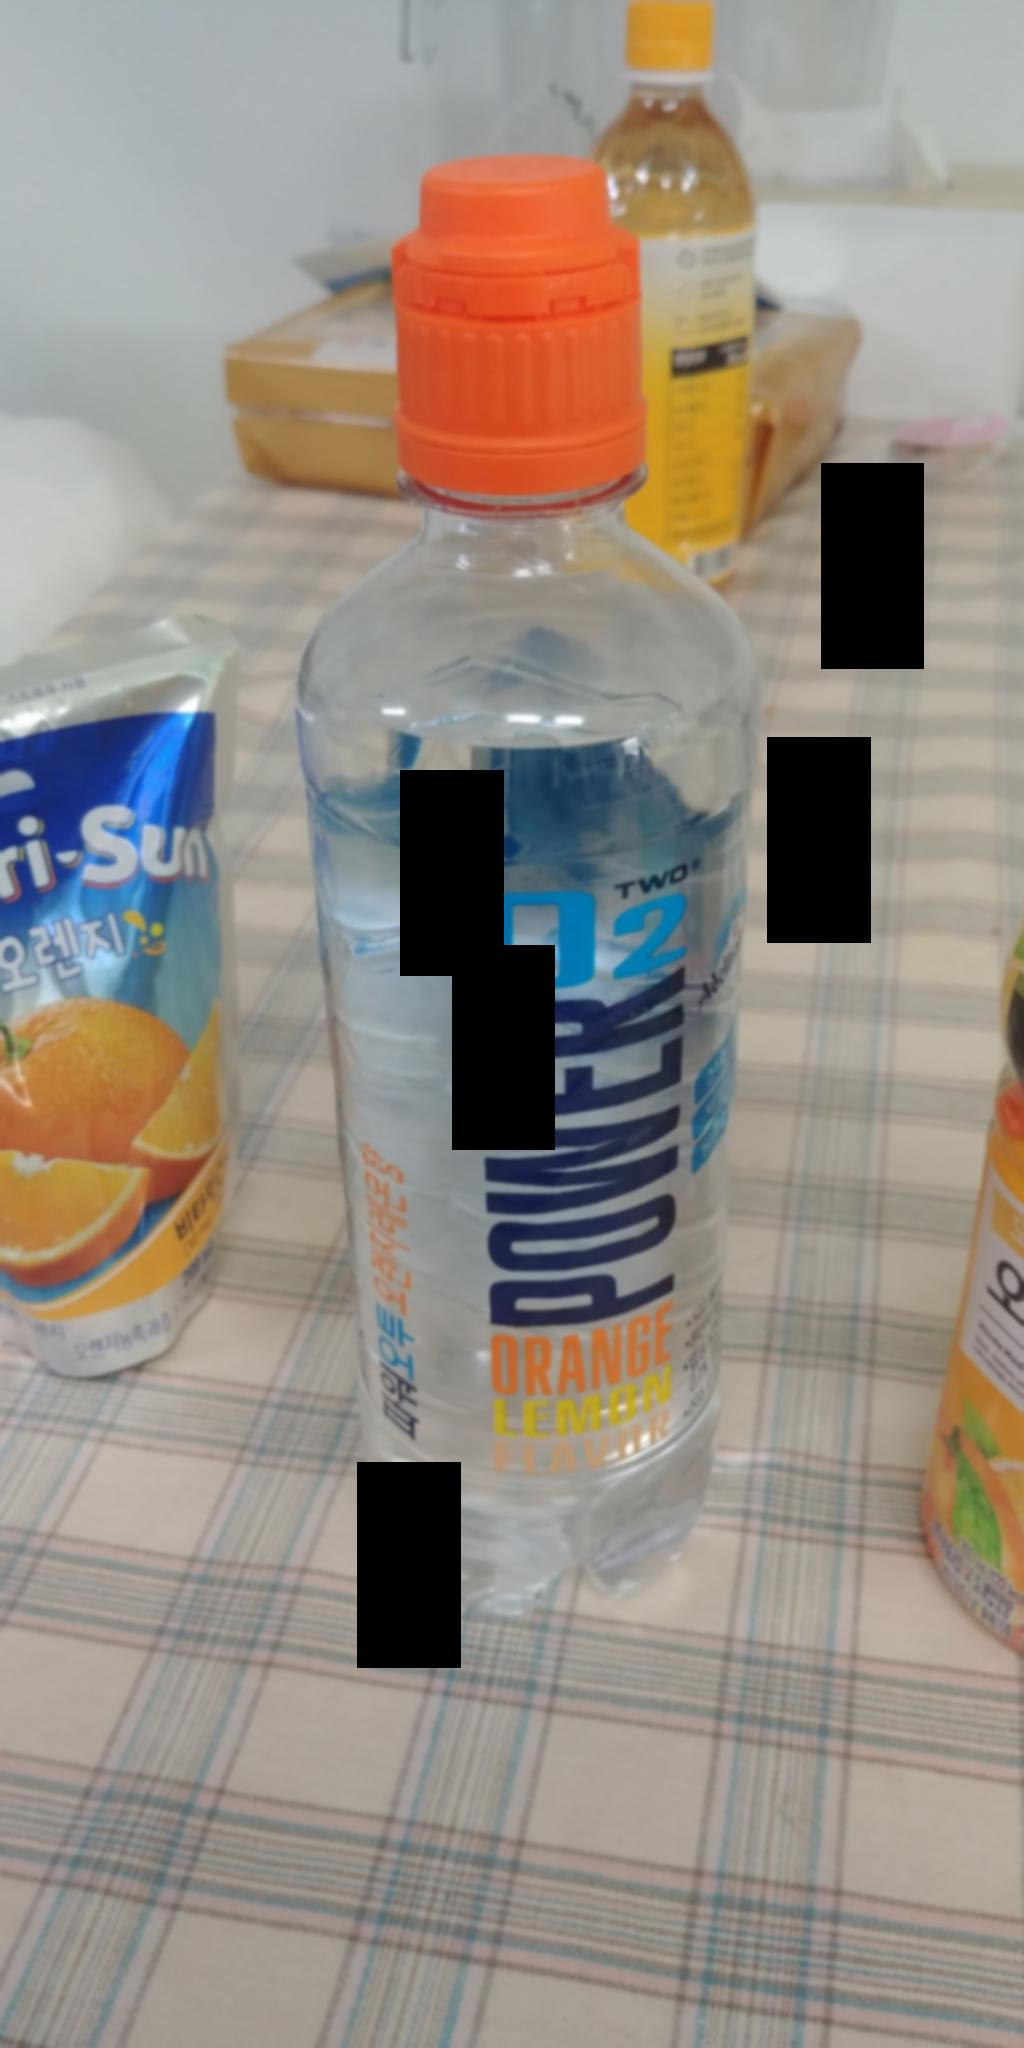cafrisun: (0, 603, 251, 1371)
powerO2_orange: (294, 136, 777, 1614)
